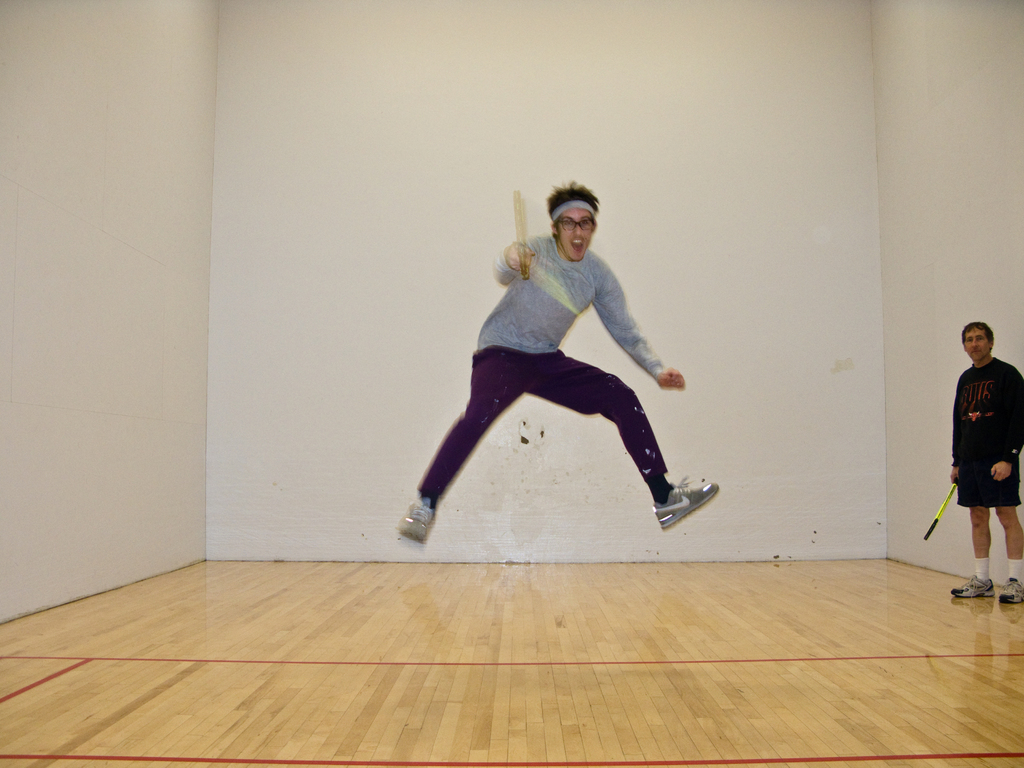Person: (397, 180, 718, 543), (950, 317, 1024, 602)
